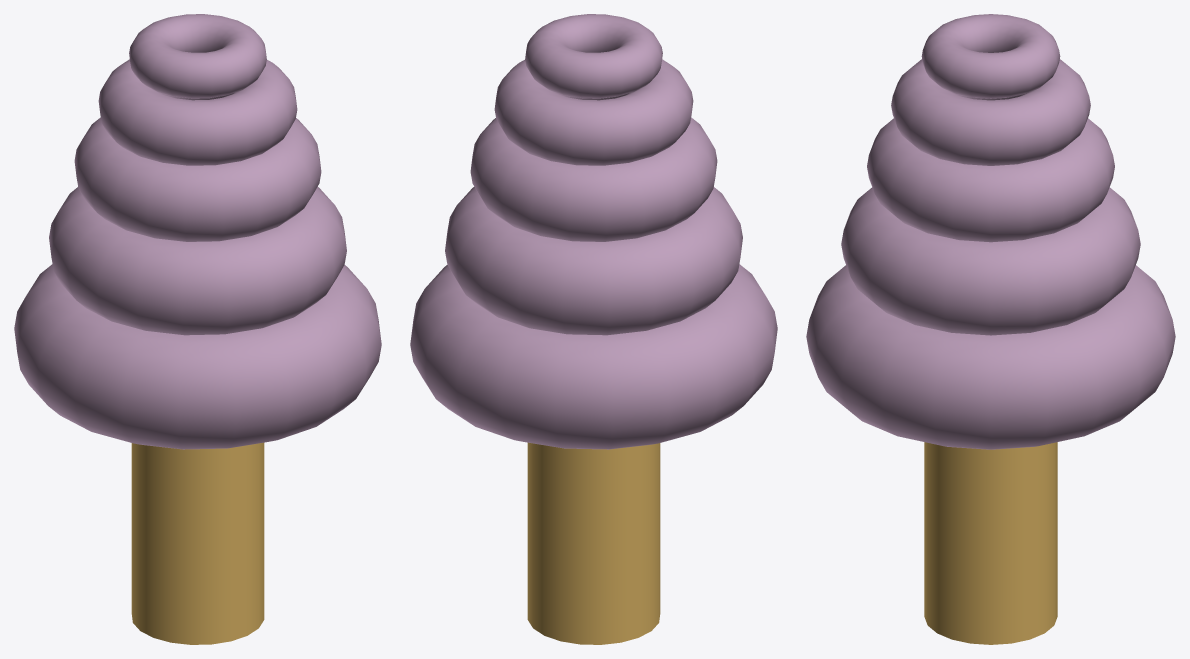
File: donuts_roxa.fbx
The picture shows the model from 3 angles, left to right: view 1: azimuth 30°, elevation 25°; view 2: azimuth 150°, elevation 25°; view 3: azimuth 270°, elevation 25°; orthographic projection.
Visible parts, largest first — view 1: pTorus14, pTorus13, arvore10, pTorus15, pTorus11, pTorus12; view 2: pTorus14, pTorus13, arvore10, pTorus15, pTorus11, pTorus12; view 3: pTorus14, pTorus13, arvore10, pTorus15, pTorus11, pTorus12.
Part boxes in pixels (left/top/right/bottom): pTorus14: left=14, top=264, right=381, bottom=449; pTorus13: left=49, top=187, right=346, bottom=335; arvore10: left=131, top=442, right=264, bottom=644; pTorus15: left=74, top=117, right=321, bottom=241; pTorus11: left=98, top=59, right=297, bottom=165; pTorus12: left=129, top=14, right=266, bottom=98; pTorus14: left=410, top=264, right=777, bottom=449; pTorus13: left=445, top=187, right=742, bottom=335; arvore10: left=527, top=442, right=660, bottom=644; pTorus15: left=470, top=117, right=717, bottom=241; pTorus11: left=494, top=59, right=693, bottom=165; pTorus12: left=525, top=14, right=662, bottom=98; pTorus14: left=806, top=265, right=1175, bottom=449; pTorus13: left=841, top=187, right=1140, bottom=335; arvore10: left=924, top=442, right=1057, bottom=644; pTorus15: left=867, top=118, right=1114, bottom=242; pTorus11: left=891, top=59, right=1090, bottom=165; pTorus12: left=921, top=14, right=1060, bottom=98.
Size of the model in its own units: 1.57 by 2.73 by 1.57.
